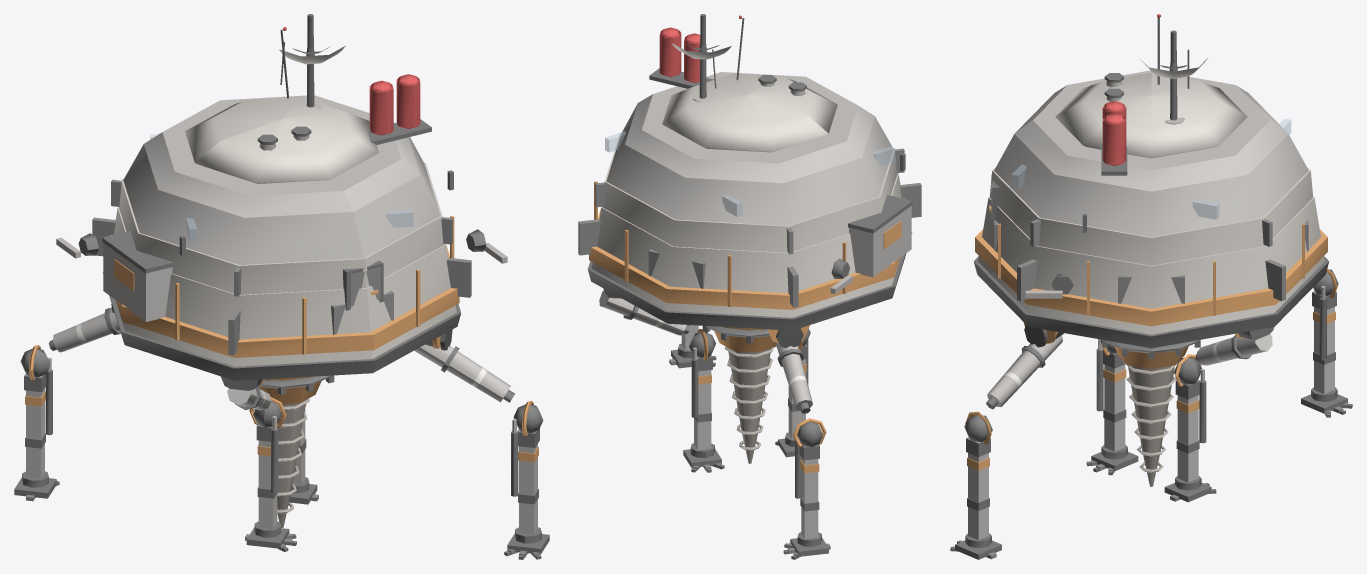
File: mining-mech.glb
The picture shows the model from 3 angles, left to right: view 1: azimuth 30°, elevation 25°; view 2: azimuth 150°, elevation 25°; view 3: azimuth 270°, elevation 25°; orthographic projection. The views are drawn at different scales.
Parts seen in each view (by area): view 1: UpperHull, LowerHull, TopPlate, TopDome, MiddleHull, OrangeBand, BottomRim, BufferBody, Leg_FL_PistonCase, DrillShaft, Leg_BR_LowerLimb, Leg_FL_LowerLimb (+10 smaller); view 2: UpperHull, LowerHull, TopPlate, TopDome, MiddleHull, OrangeBand, BottomRim, BufferBody, DrillShaft, Leg_BR_LowerLimb, Leg_BR_PistonCase, Leg_BL_LowerLimb (+14 smaller); view 3: LowerHull, UpperHull, TopPlate, TopDome, MiddleHull, OrangeBand, BottomRim, DrillShaft, Leg_BL_LowerLimb, Leg_FR_LowerLimb, Leg_FL_PistonCase, Leg_FL_LowerLimb (+14 smaller).
Part boxes in pixels (x1,y1,x2,y2): UpperHull: (123, 137, 440, 265); LowerHull: (114, 207, 456, 366); TopPlate: (144, 95, 419, 217); TopDome: (185, 97, 378, 183); MiddleHull: (119, 162, 444, 294); OrangeBand: (116, 245, 459, 357); BottomRim: (102, 272, 460, 380); BufferBody: (103, 243, 172, 321); Leg_FL_PistonCase: (414, 344, 510, 402); DrillShaft: (278, 400, 305, 496); Leg_BR_LowerLimb: (26, 375, 44, 478); Leg_FL_LowerLimb: (519, 430, 537, 534); UpperHull: (606, 104, 893, 225); LowerHull: (591, 173, 901, 317); TopPlate: (625, 72, 874, 183); TopDome: (662, 73, 837, 152); MiddleHull: (602, 133, 897, 252); OrangeBand: (589, 209, 899, 309); BottomRim: (587, 232, 912, 330); BufferBody: (849, 206, 911, 277); DrillShaft: (728, 348, 770, 434); Leg_BR_LowerLimb: (801, 446, 818, 538); Leg_BR_PistonCase: (775, 342, 812, 410); Leg_BL_LowerLimb: (694, 356, 711, 449); LowerHull: (978, 197, 1324, 334); UpperHull: (994, 134, 1308, 237); TopPlate: (1014, 70, 1288, 191); TopDome: (1055, 72, 1247, 158); MiddleHull: (989, 167, 1313, 265); OrangeBand: (975, 229, 1327, 326); BottomRim: (973, 256, 1329, 348); DrillShaft: (1128, 366, 1174, 452); Leg_BL_LowerLimb: (1177, 380, 1198, 482); Leg_FR_LowerLimb: (1104, 364, 1125, 451); Leg_FL_PistonCase: (987, 335, 1062, 407); Leg_FL_LowerLimb: (968, 438, 988, 540).
Size of the model in its own units: 5.3 by 7.08 by 5.43.
